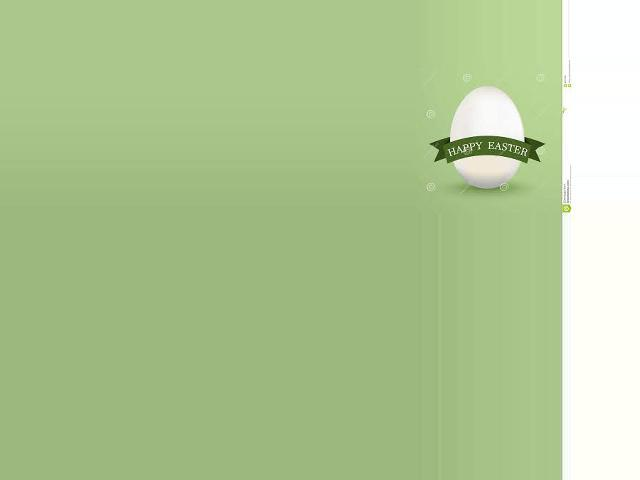egg: (451, 86, 525, 188)
